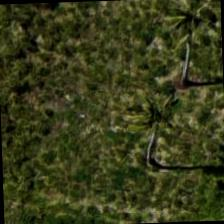Kelapa_Sawit: (102, 110, 195, 202), (133, 35, 223, 129)
